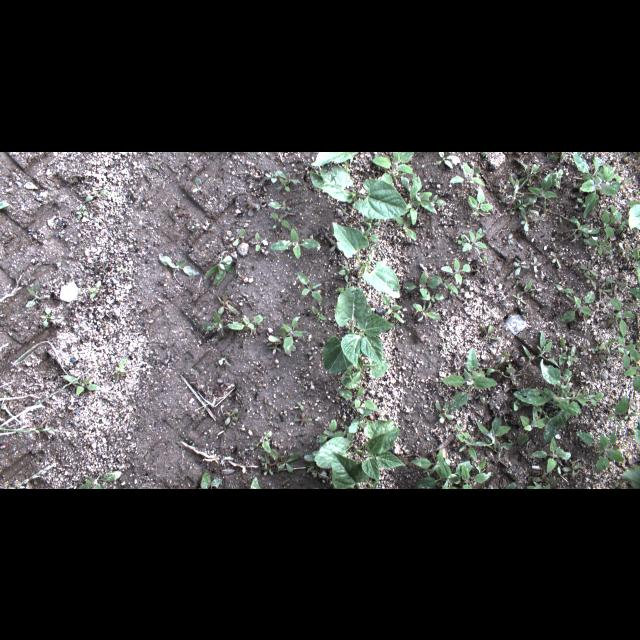crop: (317, 284, 395, 376), (308, 152, 412, 218), (329, 221, 401, 299), (314, 414, 396, 470), (353, 425, 409, 481), (332, 450, 376, 488)
weed: (514, 358, 612, 448), (0, 368, 96, 439), (438, 345, 499, 409), (318, 384, 380, 442), (582, 334, 638, 396), (408, 449, 494, 488), (572, 154, 624, 218), (401, 170, 453, 228), (454, 412, 516, 456), (508, 325, 554, 379), (340, 350, 392, 396), (517, 396, 561, 446), (530, 428, 576, 474), (576, 427, 620, 475), (264, 312, 306, 356), (394, 269, 444, 303), (272, 227, 320, 261), (566, 215, 602, 257), (605, 294, 635, 342), (200, 250, 238, 286), (558, 288, 596, 324), (445, 158, 491, 186), (62, 372, 106, 400), (372, 152, 418, 178), (438, 256, 476, 286), (526, 170, 562, 200), (464, 184, 501, 213), (598, 202, 624, 242), (379, 287, 405, 327), (200, 310, 244, 332), (295, 272, 327, 302), (156, 253, 200, 274), (76, 467, 122, 487), (512, 196, 540, 228), (557, 342, 581, 378), (268, 169, 302, 193), (412, 298, 446, 322), (504, 167, 524, 207), (458, 225, 487, 251), (239, 313, 269, 337), (427, 152, 463, 172), (628, 233, 638, 303), (276, 453, 300, 477), (197, 470, 227, 488), (28, 280, 48, 306), (252, 230, 272, 256), (265, 198, 297, 214), (225, 226, 247, 248), (334, 262, 358, 282), (611, 393, 635, 413), (546, 250, 564, 276), (270, 209, 292, 229), (254, 454, 276, 474), (511, 256, 532, 274), (222, 407, 242, 425), (584, 262, 604, 280), (260, 429, 272, 456), (41, 308, 55, 330), (552, 286, 574, 296)
